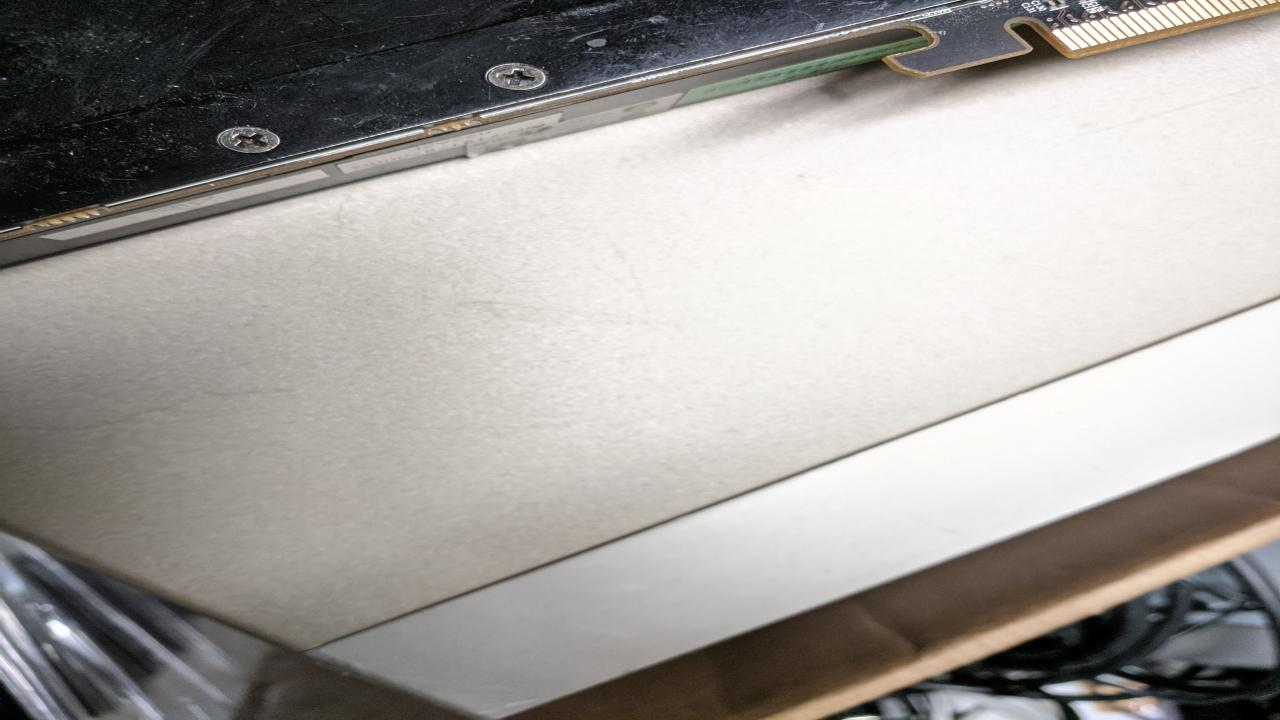CRS: (212, 127, 289, 156), (479, 64, 551, 92)
